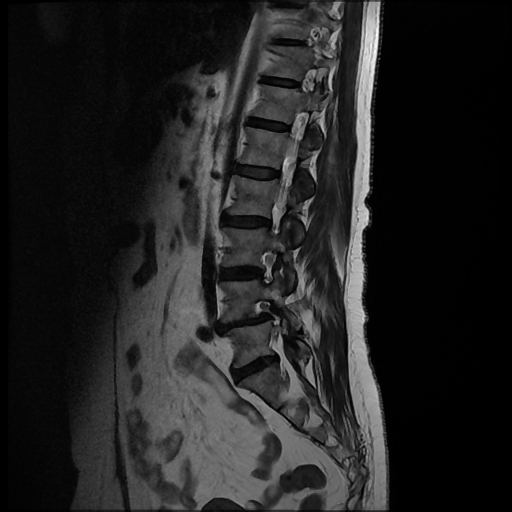RFS0: (249, 241, 292, 292)
